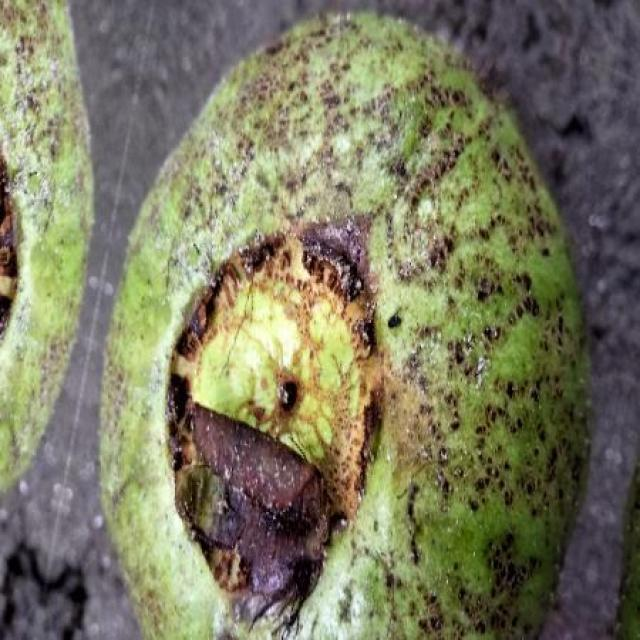Scab: (101, 15, 585, 640), (0, 0, 91, 494)
